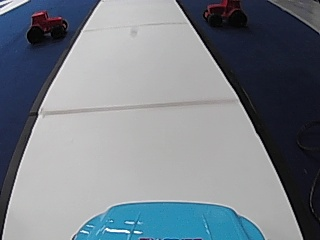tractor: (24, 8, 69, 43), (200, 0, 246, 28)
